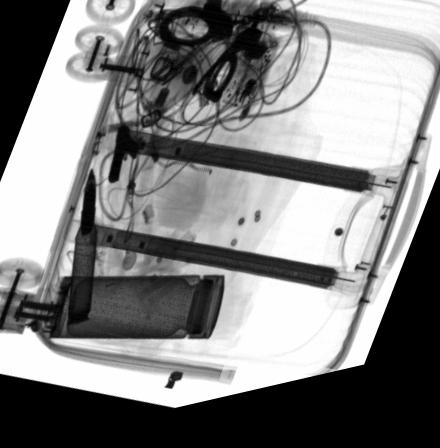Bullet: (66, 170, 98, 329)
Gun: (105, 126, 139, 187)
HandCuffs: (156, 6, 275, 113)
